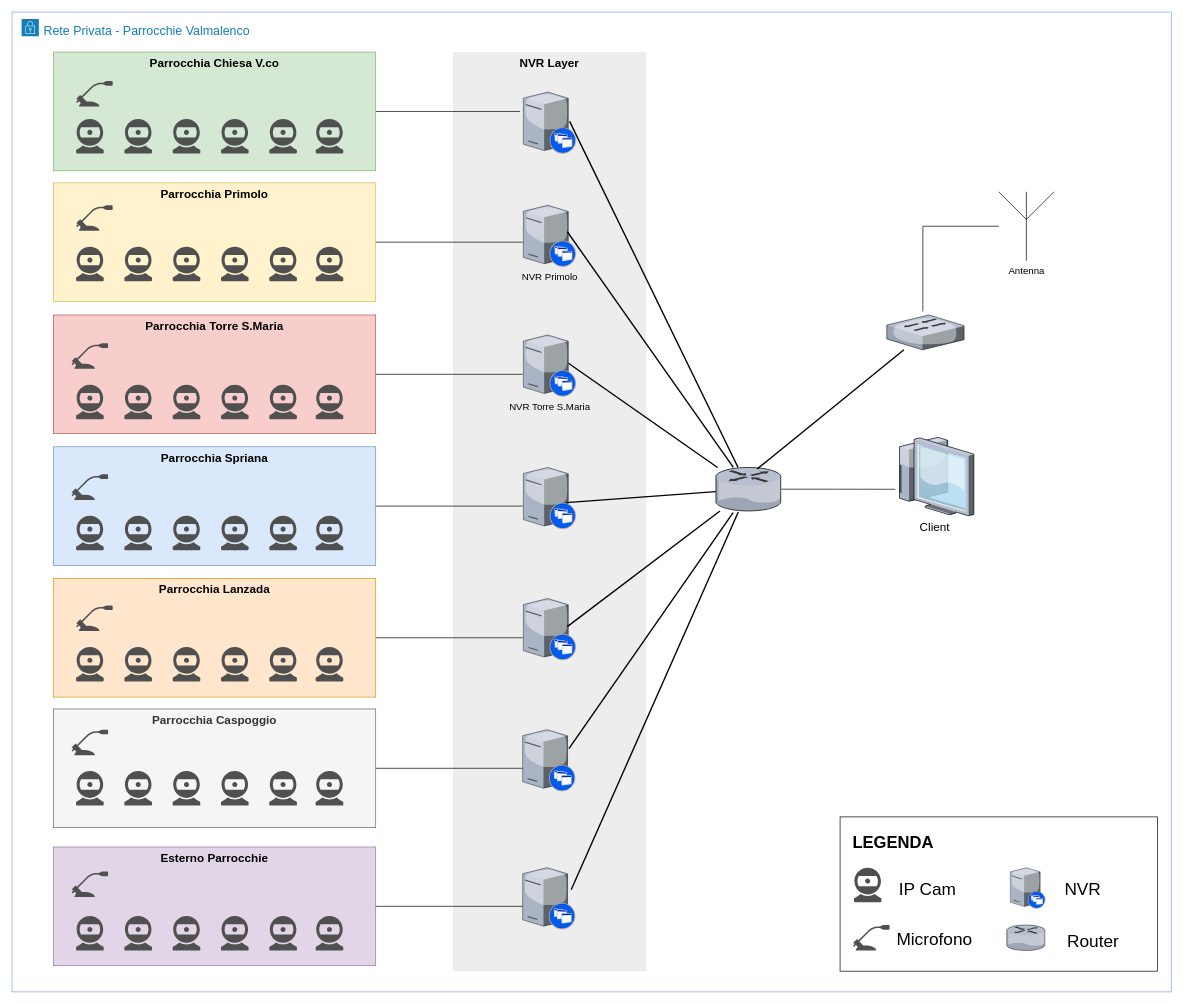
This 1183x1004 diagram has some shape labels left out. Each missing label, with the centre of its shape:
NVR Caspoggio: (x=548, y=760)
NVR Chiesa V.co: (x=549, y=122)
NVR Esterno: (x=548, y=898)
NVR Lanzada: (x=549, y=629)
NVR Spriana: (x=549, y=498)
Switch PoE: (x=925, y=332)
